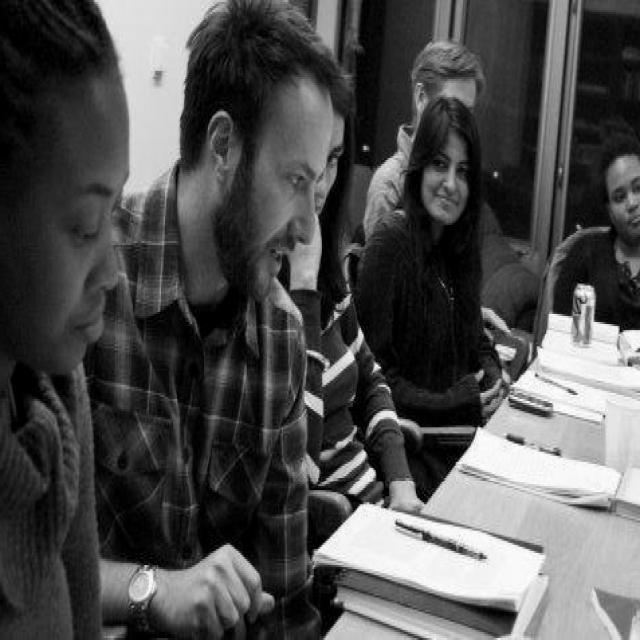face_nomask: (24, 83, 137, 369), (206, 81, 340, 290), (412, 152, 470, 219), (602, 166, 640, 235)
hand_noglove: (177, 539, 278, 630)
head_nohelmet: (178, 2, 352, 105), (0, 2, 141, 95), (408, 53, 496, 105), (414, 105, 486, 140), (601, 120, 636, 164)
person: (103, 12, 321, 632), (2, 4, 124, 632), (354, 136, 486, 462), (298, 57, 376, 520), (364, 24, 479, 237), (540, 164, 638, 310)
